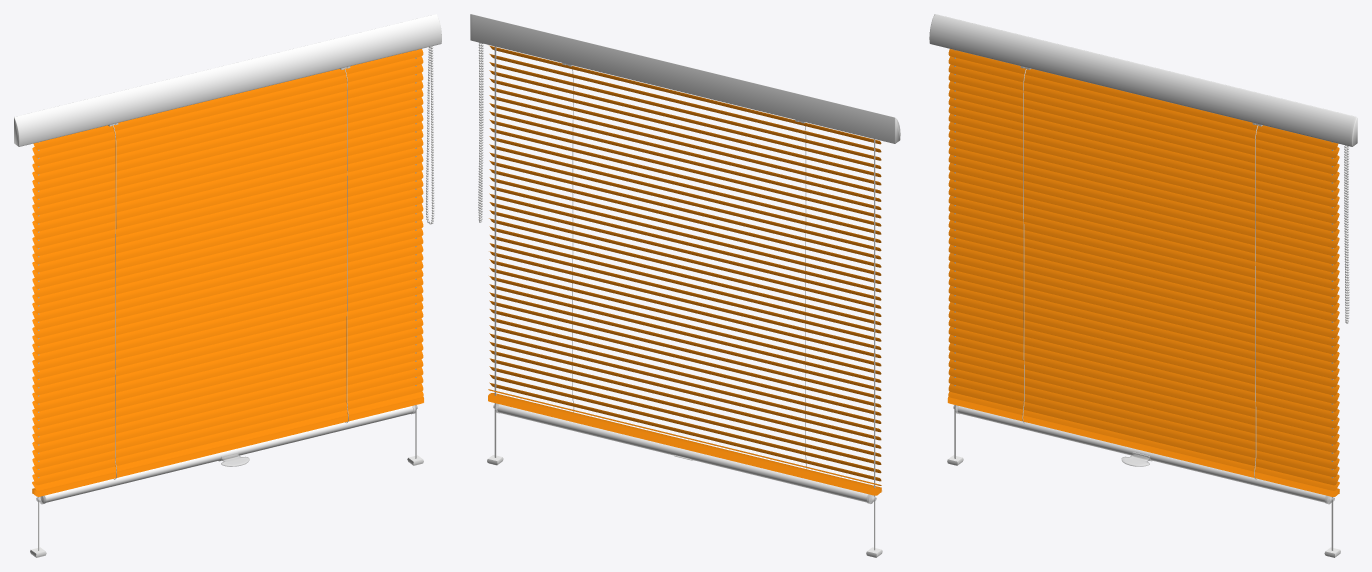
File: 8500 Glasleistenjalousie Style.glb
The picture shows the model from 3 angles, left to right: view 1: azimuth 30°, elevation 25°; view 2: azimuth 150°, elevation 25°; view 3: azimuth 330°, elevation 25°; orthographic projection.
Visible parts, largest first — view 1: Cylinder.015, jalousie.027, jalousie.061, jalousie.056, jalousie.008, jalousie.011, jalousie.020, jalousie.064, jalousie.014, jalousie.022, jalousie.060, jalousie.068 (+39 smaller); view 2: Cylinder.015, balken unten.001, jalousie.006, jalousie.026, jalousie.017, jalousie.007, jalousie.068, jalousie.009, jalousie.011, jalousie.028, jalousie.024, jalousie.057 (+42 smaller); view 3: Cylinder.015, jalousie.009, jalousie.010, jalousie.021, jalousie.067, jalousie.012, jalousie.016, jalousie.029, jalousie.026, jalousie.022, jalousie.056, jalousie.062 (+39 smaller).
Part boxes in pixels (x1,y1,x2,y2): Cylinder.015: (14, 14, 441, 146); jalousie.027: (32, 252, 423, 354); jalousie.061: (32, 122, 423, 223); jalousie.056: (32, 162, 423, 264); jalousie.008: (32, 343, 423, 444); jalousie.011: (32, 318, 423, 419); jalousie.020: (32, 195, 423, 297); jalousie.064: (32, 97, 423, 198); jalousie.014: (32, 293, 423, 395); jalousie.022: (32, 212, 423, 313); jalousie.060: (32, 130, 423, 231); jalousie.068: (32, 64, 423, 166); Cylinder.015: (470, 14, 900, 143); balken unten.001: (497, 404, 872, 502); jalousie.006: (488, 393, 881, 491); jalousie.026: (489, 243, 881, 341); jalousie.017: (489, 169, 881, 267); jalousie.007: (489, 350, 881, 448); jalousie.068: (489, 62, 881, 160); jalousie.009: (489, 333, 881, 432); jalousie.011: (489, 317, 881, 415); jalousie.028: (489, 259, 881, 357); jalousie.024: (489, 226, 881, 325); jalousie.057: (489, 152, 881, 251); Cylinder.015: (929, 14, 1357, 146); jalousie.009: (948, 335, 1339, 436); jalousie.010: (948, 326, 1339, 428); jalousie.021: (948, 204, 1339, 305); jalousie.067: (948, 73, 1339, 174); jalousie.012: (948, 310, 1339, 411); jalousie.016: (948, 277, 1339, 379); jalousie.029: (948, 269, 1339, 370); jalousie.026: (948, 244, 1339, 346); jalousie.022: (948, 212, 1339, 313); jalousie.056: (948, 163, 1339, 264); jalousie.062: (948, 113, 1339, 215).
Size of the model in its own units: 1 by 0.999 by 0.0686.
Materials: 3 (1 with a texture image).
